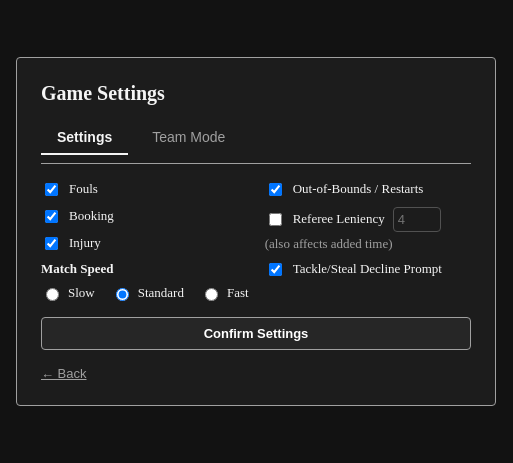
Scenario: GameSettingsScreen — Team Mode tab (D-04/D-05/D-06) › turning the Draft toggle on reveals five pool checkboxes with Original pre-checked
Click the tab "Team Mode".
click(189, 138)  # box left=136, top=120, right=241, bottom=154
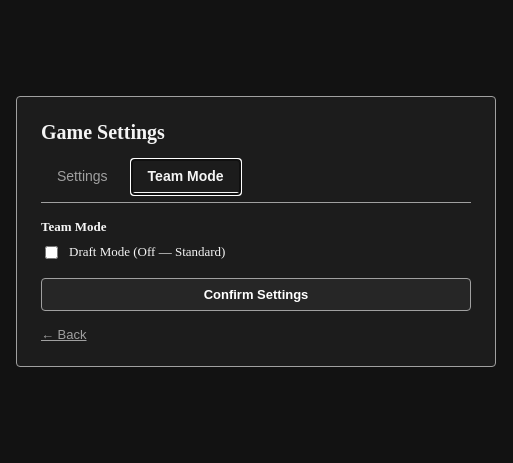
Click the switch.
click(52, 252)  # box left=45, top=246, right=58, bottom=258
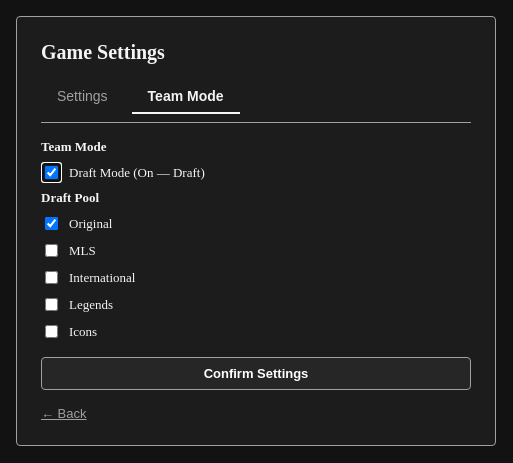
Result: the text "Draft Pool" is shown at left=41, top=190, right=99, bottom=205
Result: the checkbox labelled "Original" is checked at left=45, top=217, right=58, bottom=230
Result: the checkbox labelled "MLS" is not checked at left=45, top=244, right=58, bottom=257
